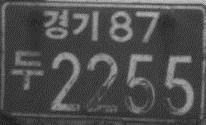2: (85, 51, 118, 114), (49, 50, 81, 112)
5: (122, 52, 155, 114), (162, 54, 194, 116)
7: (135, 9, 159, 42)
8: (108, 10, 133, 42)
경기_O: (41, 9, 100, 41)
두: (10, 49, 45, 91)
